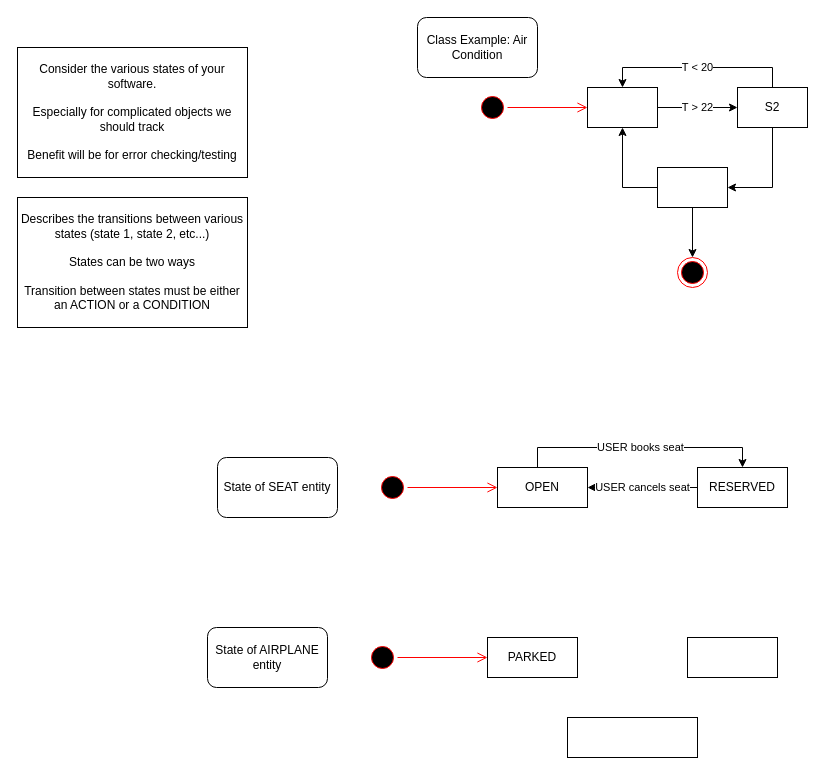
Some shapes in this 825 by 775 pixel diagram are drawn without their labels. The centre of each missing label's shape, as x and y in pixels:
"FLYING" belongs at (732,657).
"MAINTENANCE" belongs at (632,737).
"S1" belongs at (622,107).
"S3" belongs at (692,187).
